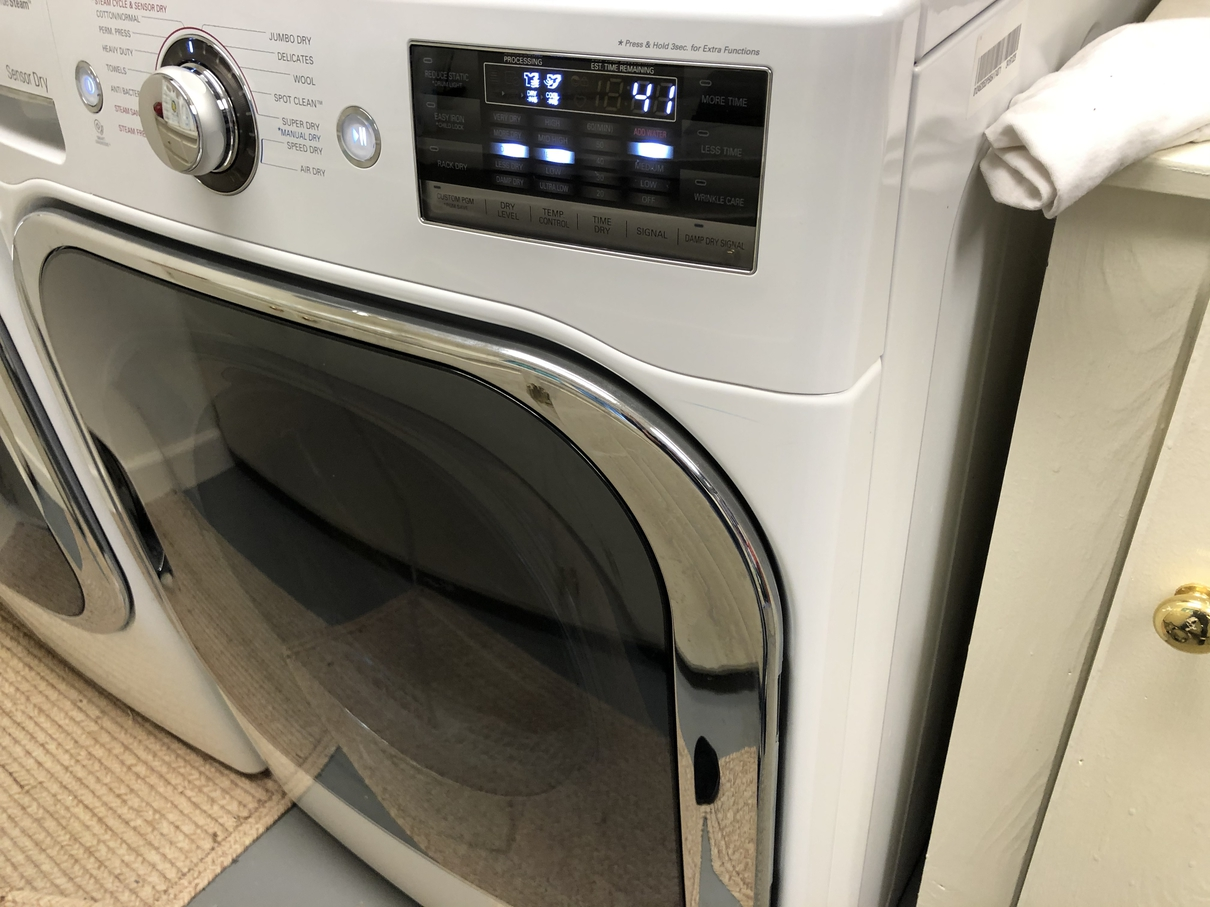status: (471, 48, 687, 135)
